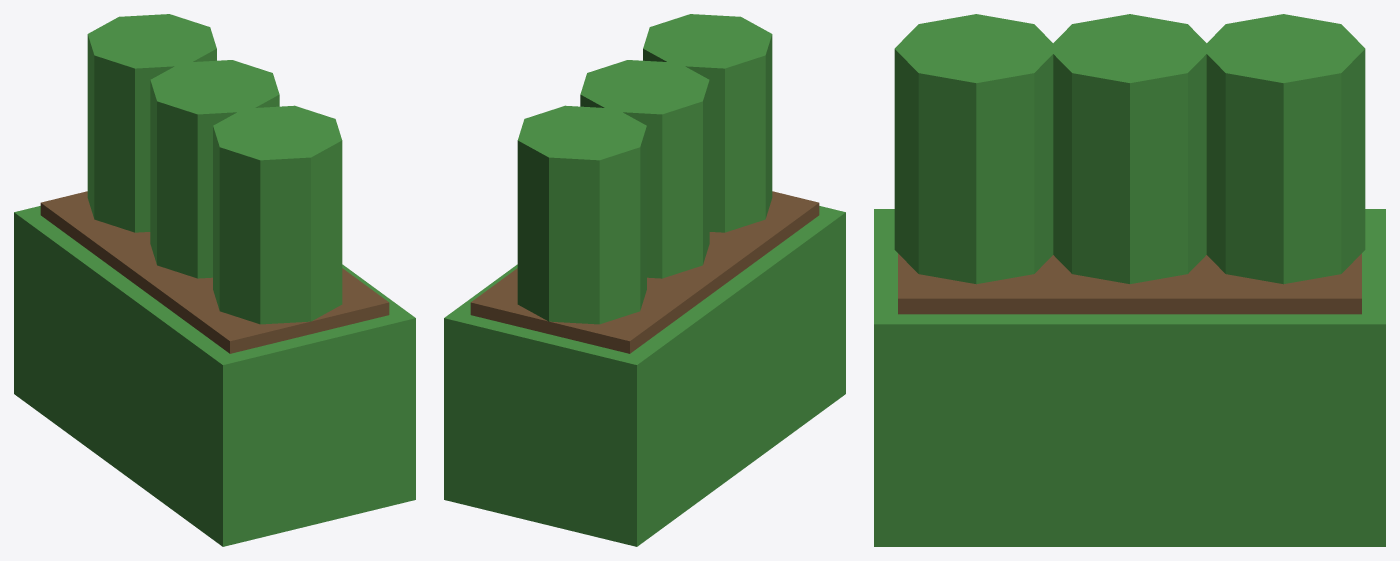
File: planter_street.glb
3 views of the same model, side by side, from view 1: azimuth 30°, elevation 25°; view 2: azimuth 150°, elevation 25°; view 3: azimuth 270°, elevation 25° (orthographic). The views are drawn at different scales.
Parts seen in each view (by area): view 1: planter_street; view 2: planter_street; view 3: planter_street.
Part boxes in pixels (x1,y1,x2,y2): planter_street: [14, 14, 415, 546]; planter_street: [444, 14, 845, 546]; planter_street: [874, 14, 1385, 546].
Bounding box in the file's own units: 0.096 × 0.171 × 0.18.
